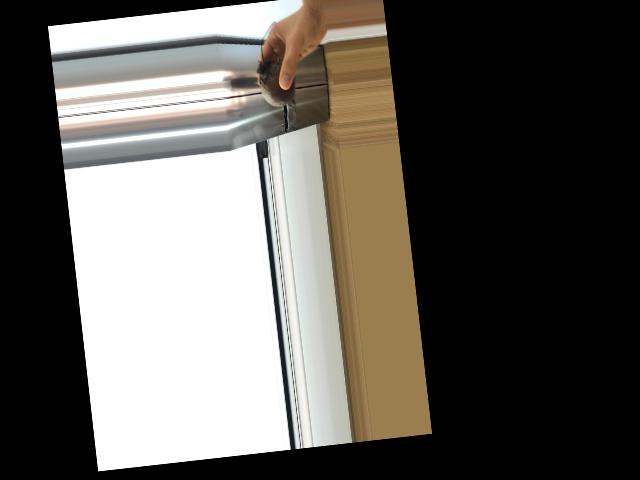beet: (251, 20, 298, 117)
